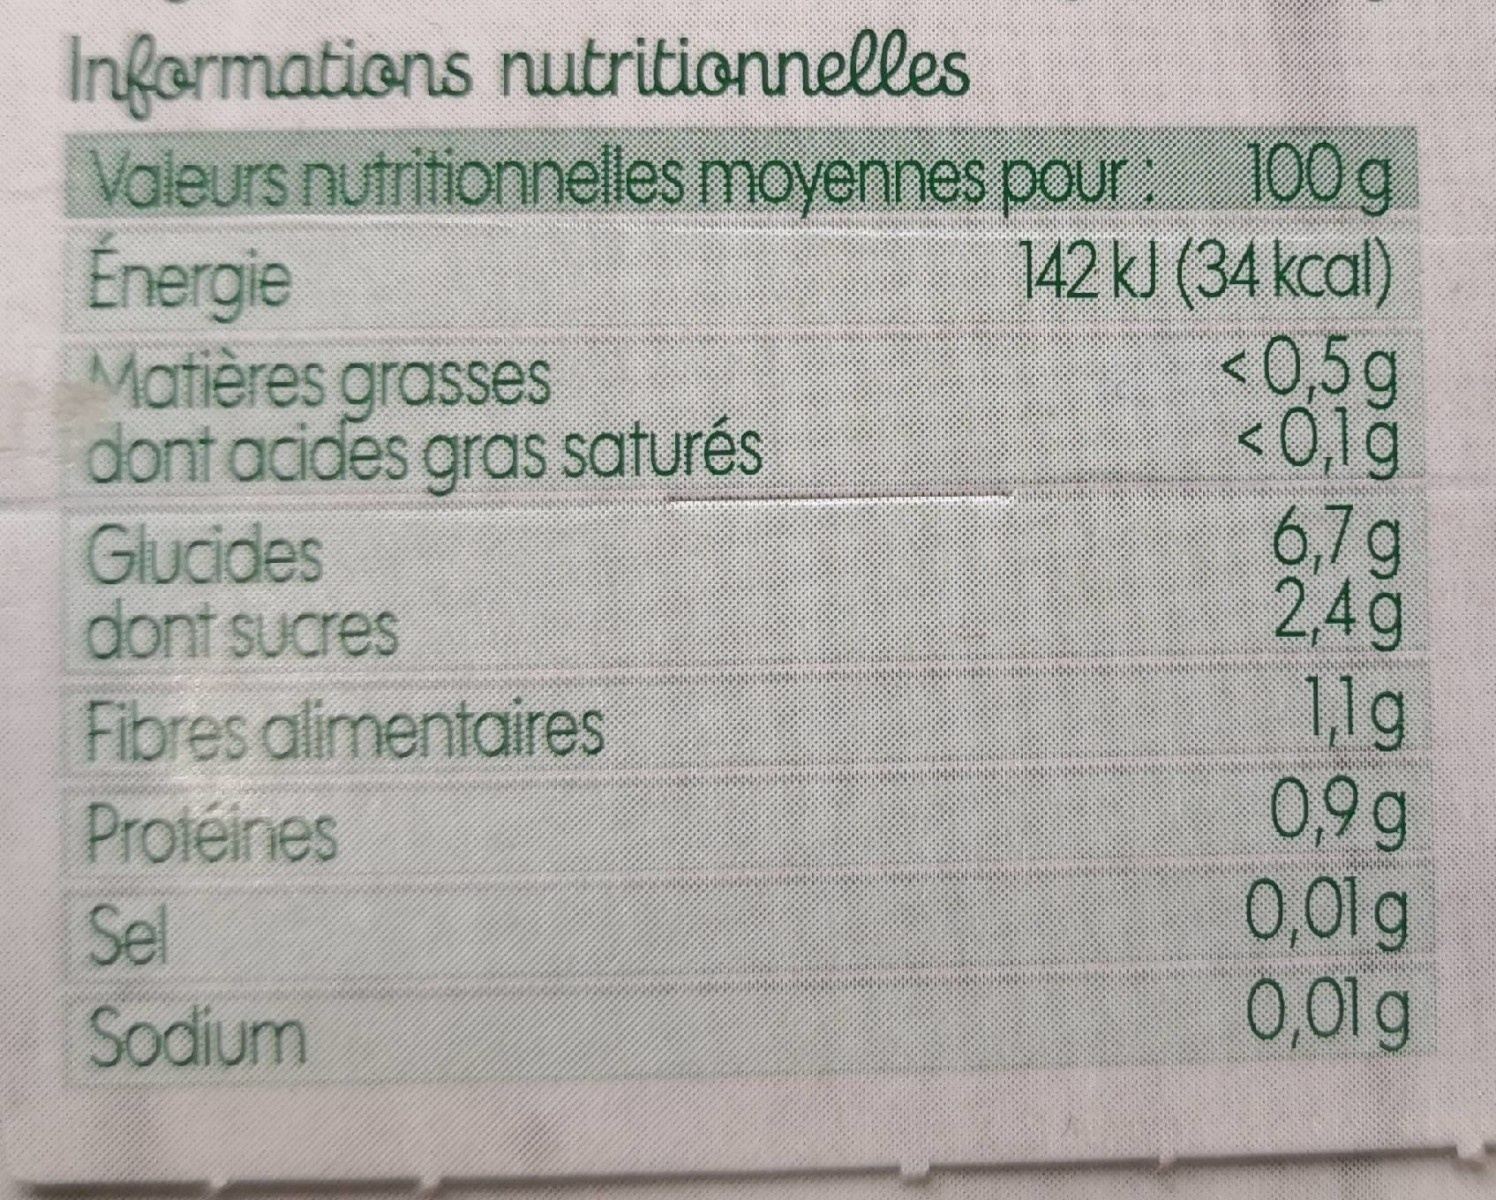column: (80, 224, 769, 1075), (1019, 214, 1412, 1075)
table: (62, 126, 1436, 1095)
